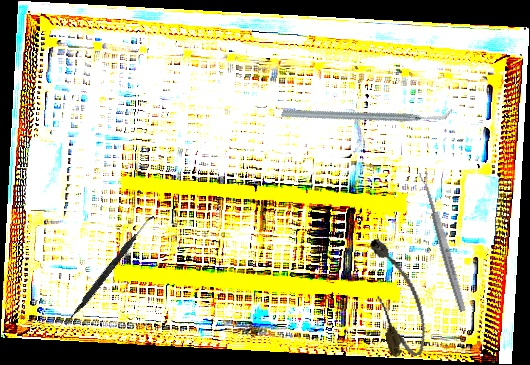Cannula: (362, 232, 433, 362)
Chopper: (280, 45, 454, 181)
Spatula Surgical: (63, 211, 155, 329)
Surgical Spoon: (418, 170, 468, 313)
